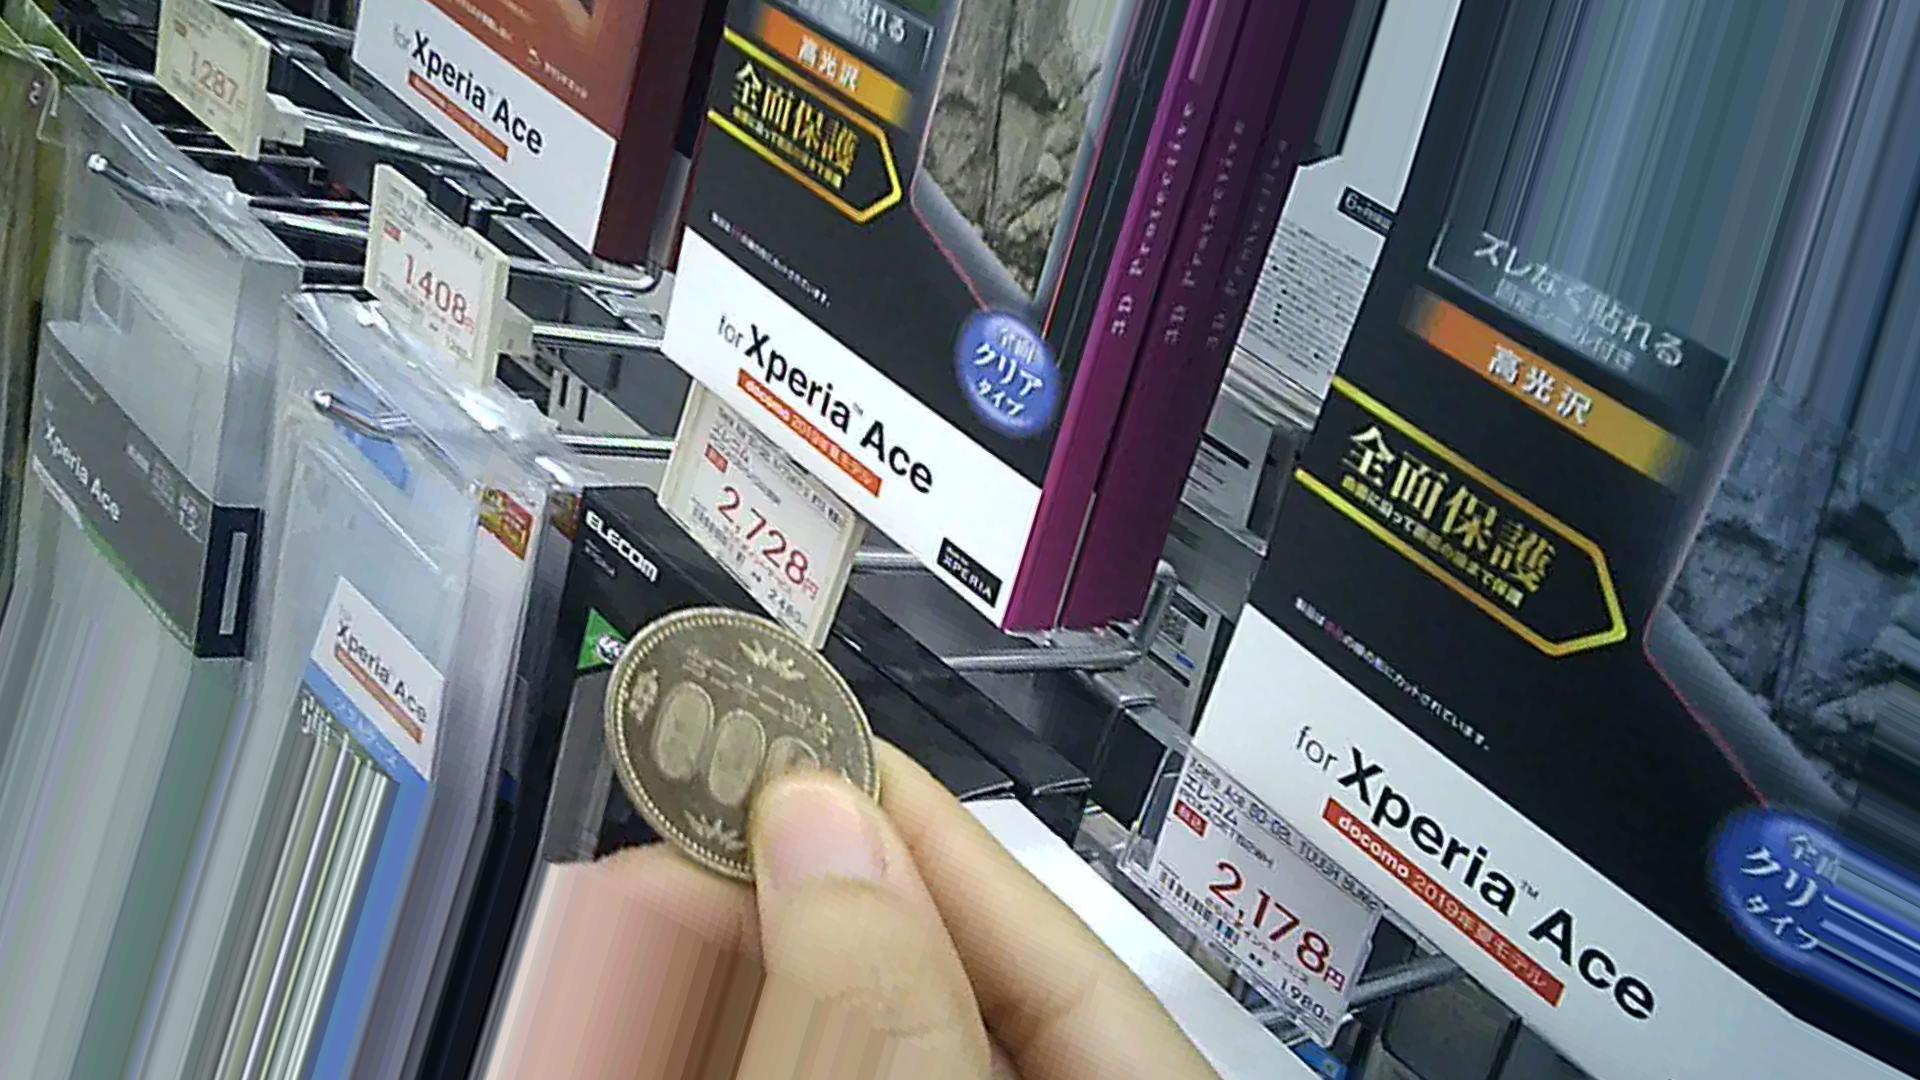500 Yen: (601, 597, 895, 894)
